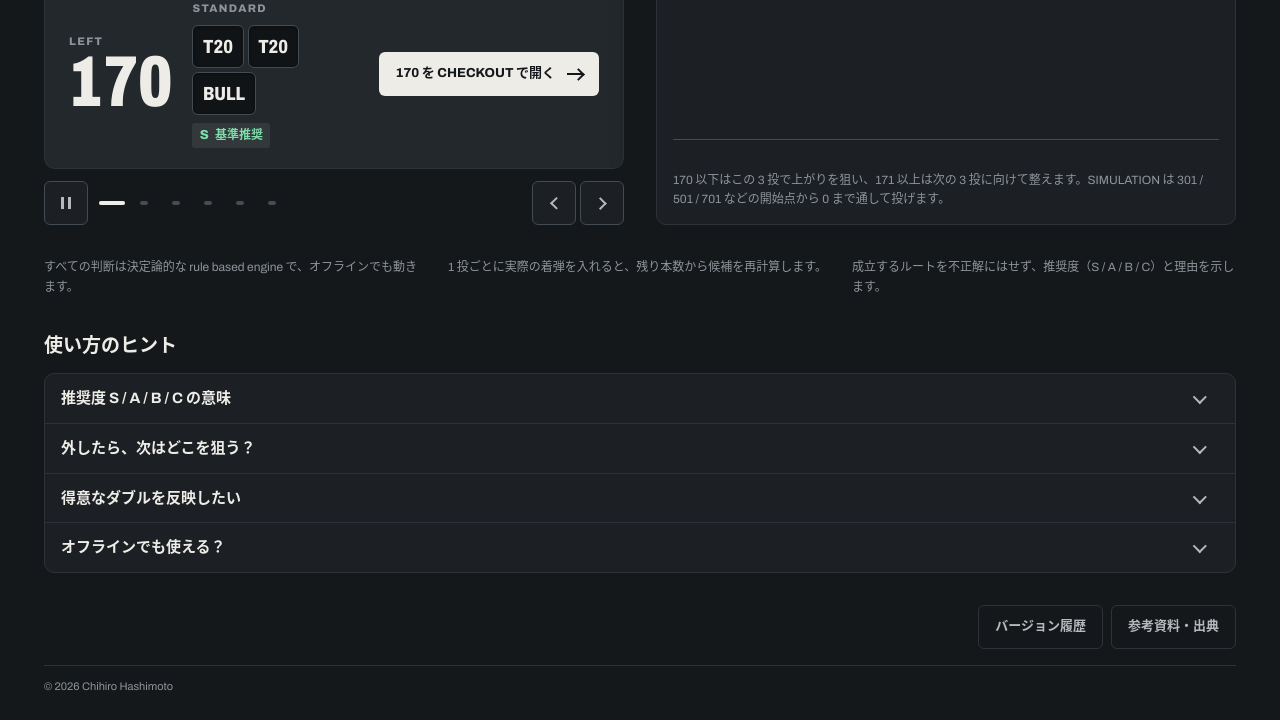
Test: 参考資料・出典 › 基準ルートの Source of Truth を説明している
(page scrolled)
Click the button with test id "home-references" at (1174, 627), box [1111,605,1236,649]
(page scrolled)
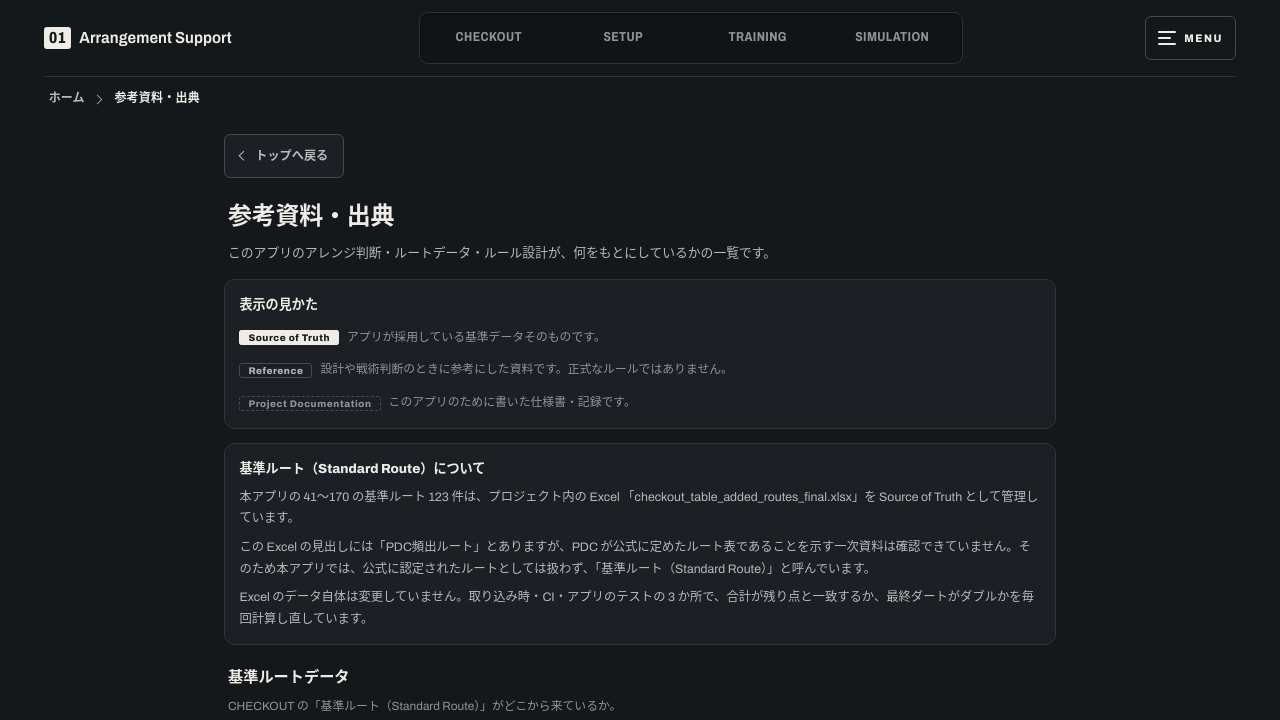
Expected: the element with test id "references-standard-note" shows "checkout_table_added_routes_final.xlsx", [239,490,1038,525]
Expected: the element with test id "references-standard-note" shows "123", [239,490,1038,525]
Expected: the element with test id "references-standard-note" shows "Source of Truth", [239,490,1038,525]
